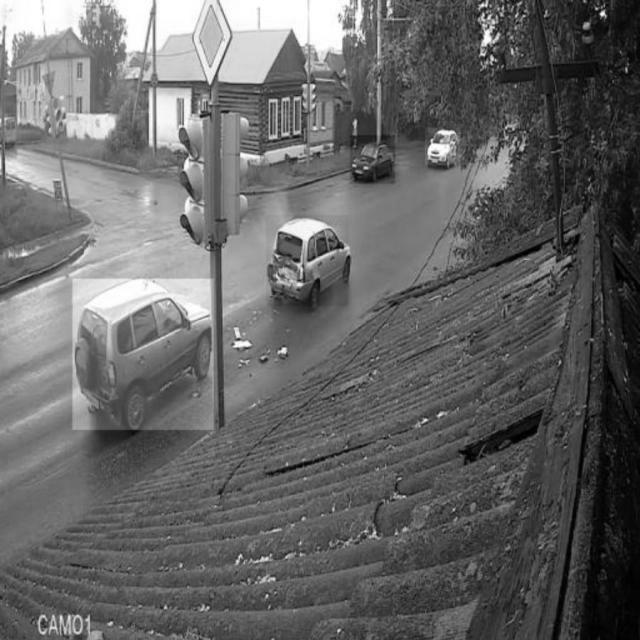vehicle: (73, 279, 214, 430), (266, 216, 348, 307), (350, 135, 396, 183), (425, 128, 460, 165), (0, 113, 20, 150)
